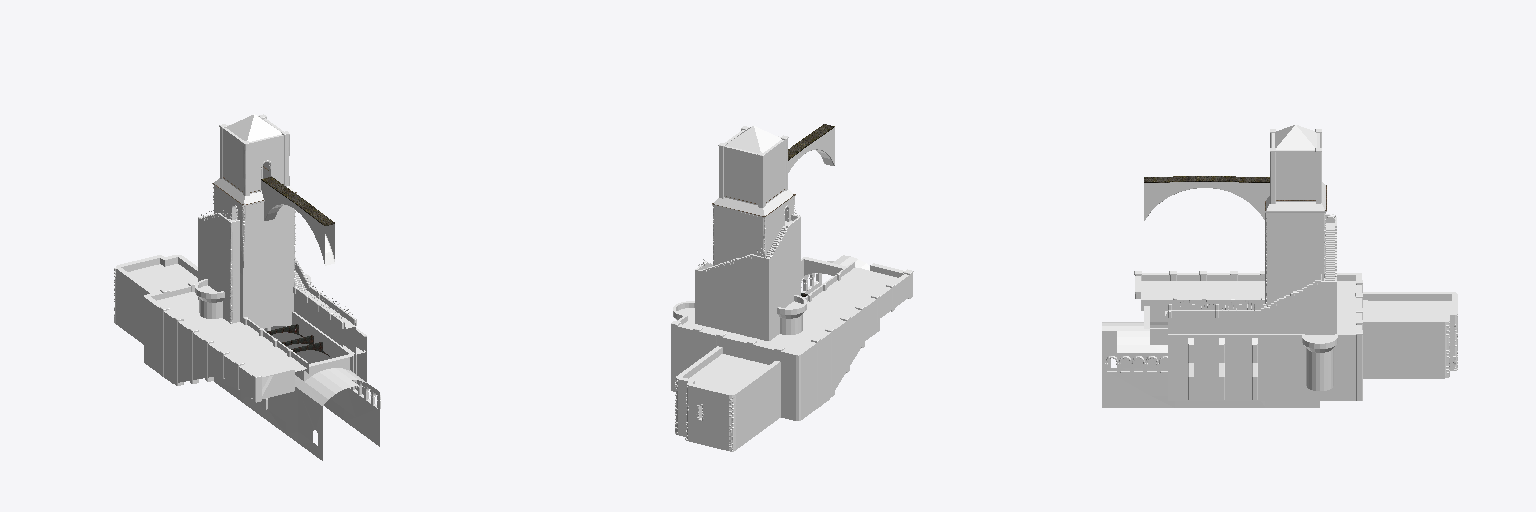
The picture shows the model from 3 angles: view 1: azimuth 30°, elevation 25°; view 2: azimuth 150°, elevation 25°; view 3: azimuth 270°, elevation 25°; orthographic projection.
Parts seen in each view (by area): view 1: mesh16, mesh18, mesh13, mesh6, mesh9, mesh0, mesh12, mesh17, mesh2, mesh15, mesh10; view 2: mesh16, mesh13, mesh6, mesh9, mesh12, mesh17, mesh2; view 3: mesh16, mesh18, mesh13, mesh12, mesh6, mesh17, mesh2, mesh9, mesh0, mesh15.
Boxes of the visible parts, x1=… form: mesh16: x1=114, y1=180, x2=366, y2=399; mesh18: x1=214, y1=326, x2=379, y2=460; mesh13: x1=128, y1=219, x2=365, y2=372; mesh6: x1=223, y1=118, x2=380, y2=408; mesh9: x1=160, y1=118, x2=289, y2=402; mesh0: x1=212, y1=167, x2=354, y2=421; mesh12: x1=116, y1=214, x2=366, y2=376; mesh17: x1=131, y1=264, x2=361, y2=374; mesh2: x1=214, y1=114, x2=294, y2=203; mesh15: x1=261, y1=177, x2=334, y2=225; mesh10: x1=267, y1=324, x2=329, y2=356; mesh16: x1=673, y1=127, x2=909, y2=451; mesh13: x1=685, y1=221, x2=894, y2=391; mesh6: x1=724, y1=130, x2=840, y2=301; mesh9: x1=671, y1=130, x2=912, y2=408; mesh12: x1=673, y1=214, x2=909, y2=395; mesh17: x1=677, y1=221, x2=897, y2=392; mesh2: x1=714, y1=126, x2=792, y2=215; mesh16: x1=1135, y1=182, x2=1457, y2=400; mesh18: x1=1102, y1=322, x2=1319, y2=407; mesh13: x1=1141, y1=223, x2=1451, y2=342; mesh12: x1=1135, y1=217, x2=1457, y2=345; mesh6: x1=1106, y1=133, x2=1319, y2=372; mesh17: x1=1141, y1=223, x2=1451, y2=341; mesh2: x1=1266, y1=125, x2=1325, y2=210; mesh9: x1=1135, y1=133, x2=1362, y2=400; mesh0: x1=1150, y1=201, x2=1326, y2=362; mesh15: x1=1144, y1=176, x2=1269, y2=182.
Size of the model in its own units: 27.82 by 49.01 by 58.81.
19 materials, 3 textured.